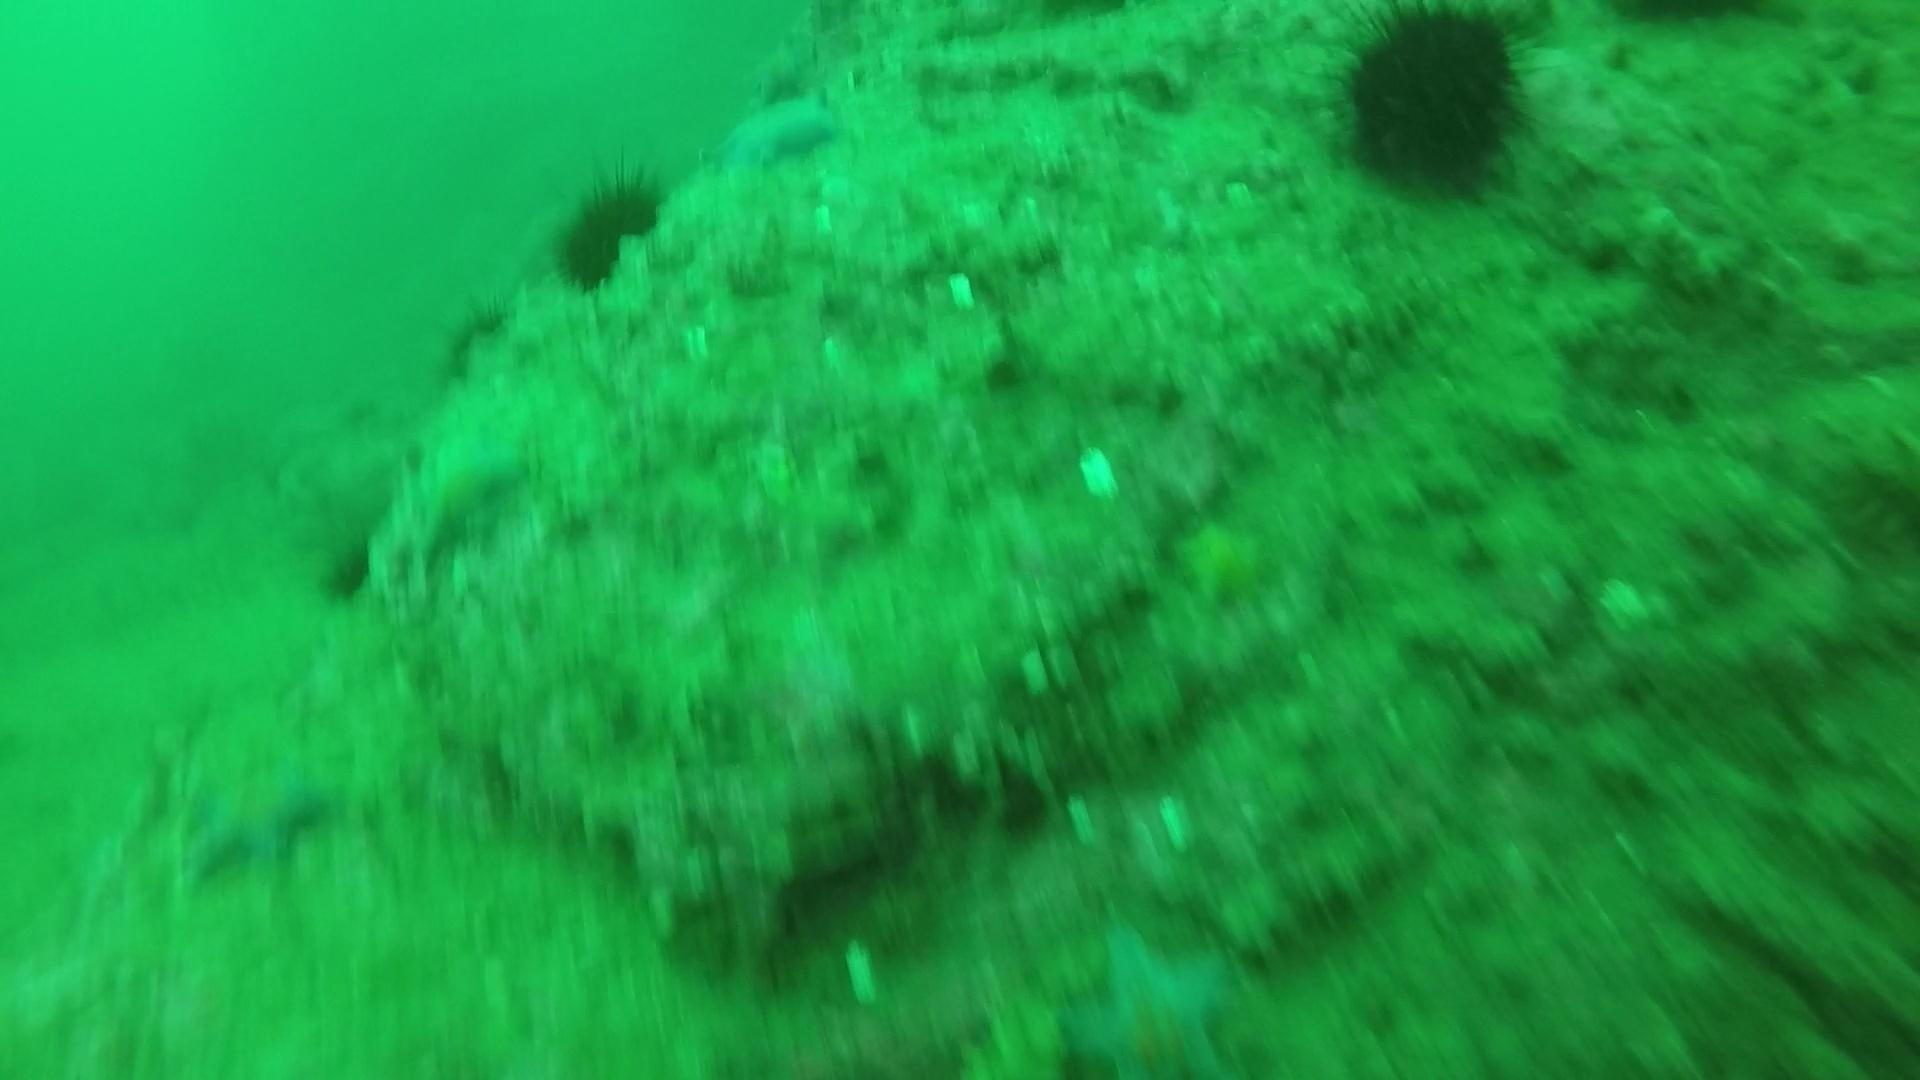echinus: (1319, 3, 1542, 203), (543, 161, 673, 301), (434, 291, 516, 388), (313, 534, 378, 609)
starfish: (1054, 920, 1246, 1080), (167, 738, 345, 891), (401, 423, 539, 560), (705, 88, 844, 182), (1164, 508, 1284, 615)
